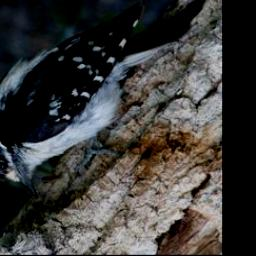Woodpecker: (0, 0, 213, 198)
